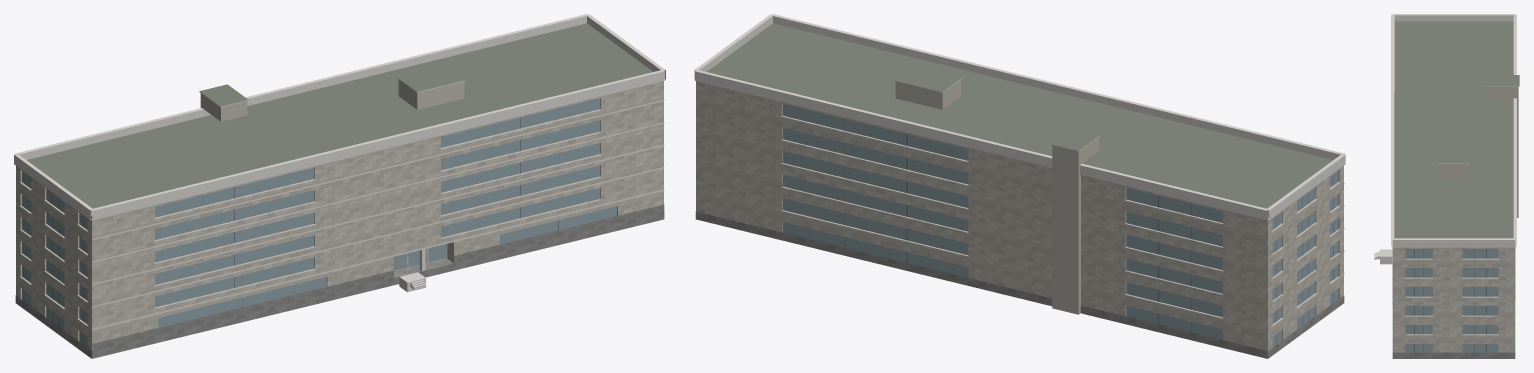
The picture shows the model from 3 angles, left to right: view 1: azimuth 30°, elevation 25°; view 2: azimuth 150°, elevation 25°; view 3: azimuth 270°, elevation 25°; orthographic projection. The views are drawn at different scales.
Visible parts, largest first — view 1: b21__wall, b21__roof, b21__glass, b21__trim, b21__base, b21__wall2; view 2: b21__wall, b21__roof, b21__glass, b21__trim, b21__wall2, b21__base, b21__frame; view 3: b21__roof, b21__wall, b21__trim, b21__glass, b21__wall2, b21__base, b21__entranceStair, b21__frame.
Part boxes in pixels (x1,y1,x2,y2): b21__wall: [16, 81, 663, 358]; b21__roof: [26, 23, 663, 357]; b21__glass: [22, 98, 616, 347]; b21__trim: [14, 14, 665, 330]; b21__base: [15, 204, 664, 358]; b21__wall2: [200, 80, 464, 121]; b21__wall: [696, 81, 1343, 358]; b21__roof: [707, 23, 1333, 217]; b21__glass: [782, 104, 1338, 347]; b21__trim: [694, 14, 1345, 325]; b21__wall2: [895, 80, 1098, 314]; b21__base: [695, 211, 1344, 358]; b21__frame: [844, 119, 1333, 344]; b21__roof: [1394, 21, 1519, 238]; b21__wall: [1392, 247, 1515, 352]; b21__trim: [1391, 14, 1519, 335]; b21__glass: [1405, 249, 1498, 352]; b21__wall2: [1439, 86, 1518, 217]; b21__base: [1392, 352, 1515, 358]; b21__entranceStair: [1374, 249, 1392, 264]; b21__frame: [1414, 249, 1486, 352].
Bounding box in the file's own units: 91.89 × 25.5 × 24.98.
10 materials, 2 textured.
